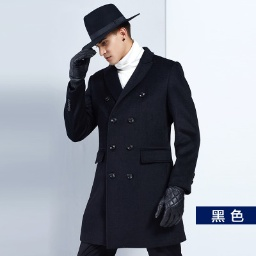face: (90, 21, 135, 63)
